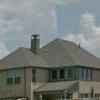Chimney: (26, 30, 44, 62)
